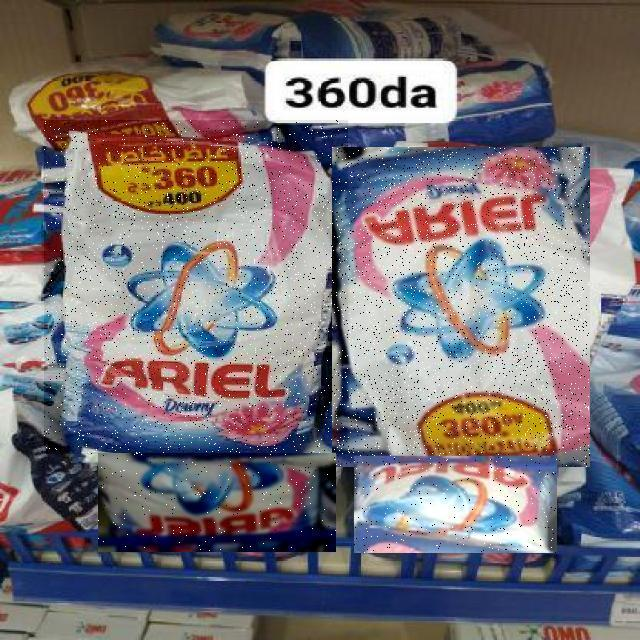Detergent: (44, 121, 348, 455), (332, 147, 590, 467), (98, 453, 336, 552), (354, 456, 557, 553)
